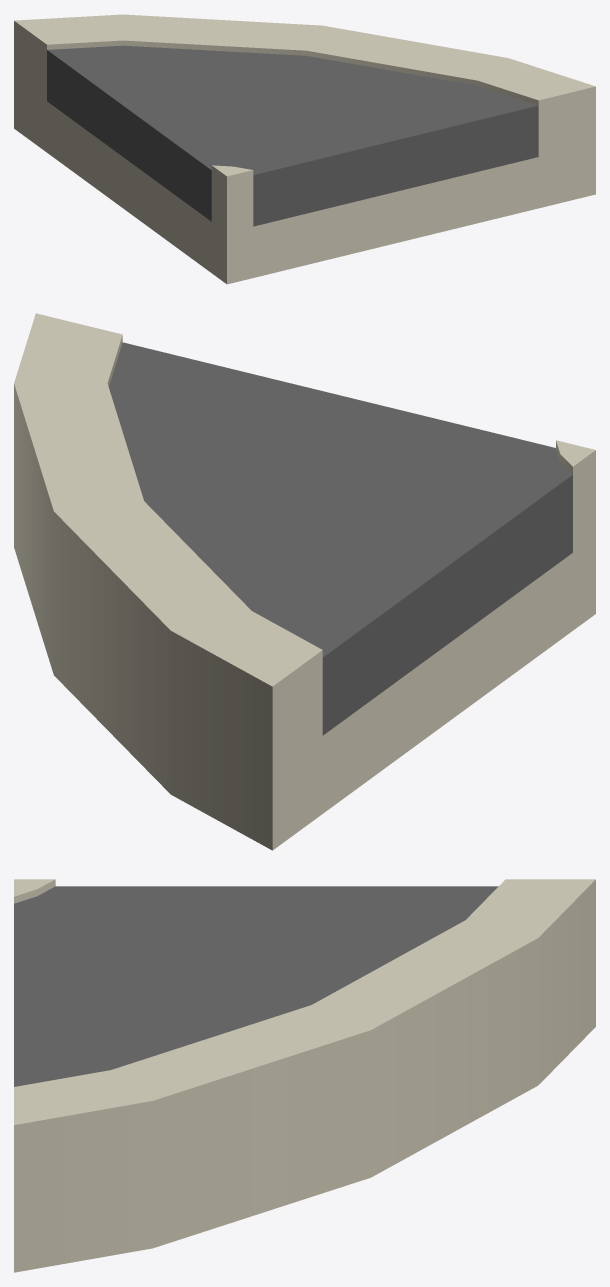
Rendered from roadTile_110.fbx.
3 renders of one model, top to bottom at view 1: azimuth 30°, elevation 25°; view 2: azimuth 150°, elevation 25°; view 3: azimuth 270°, elevation 25°, orthographic. The views are drawn at different scales.
Parts seen in each view (by area): view 1: roadTile_110; view 2: roadTile_110; view 3: roadTile_110.
Boxes of the visible parts, x1=… form: roadTile_110: x1=14, y1=14, x2=595, y2=284; roadTile_110: x1=14, y1=313, x2=595, y2=850; roadTile_110: x1=14, y1=879, x2=595, y2=1272.
Size of the model in its own units: 88.68 by 24.8 by 88.68.
